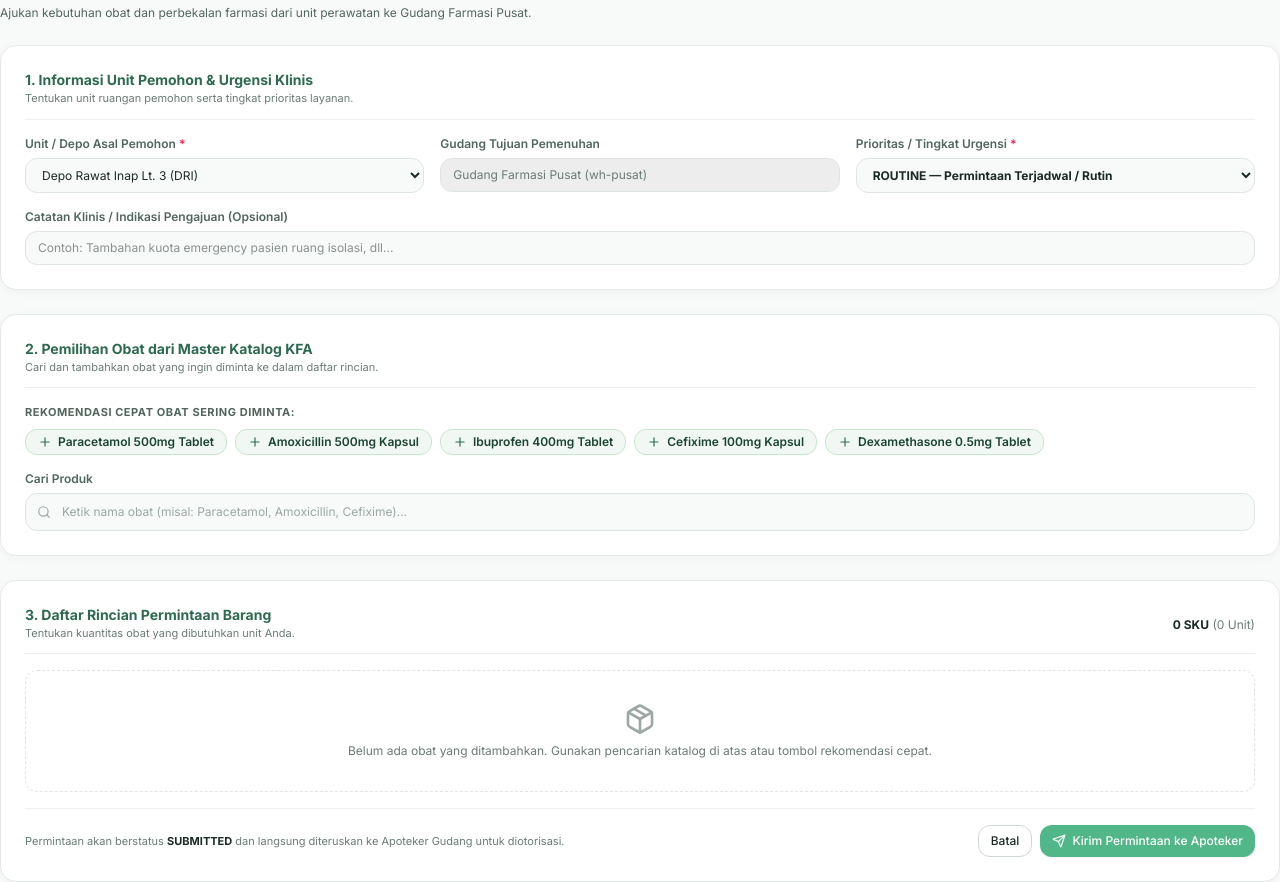
Test case: RequisitionCreate › shows validation error when submitting with no line items
(page scrolled)
Click the button "Kirim Permintaan ke Apoteker" at (1148, 841), box [1040,825,1255,857]
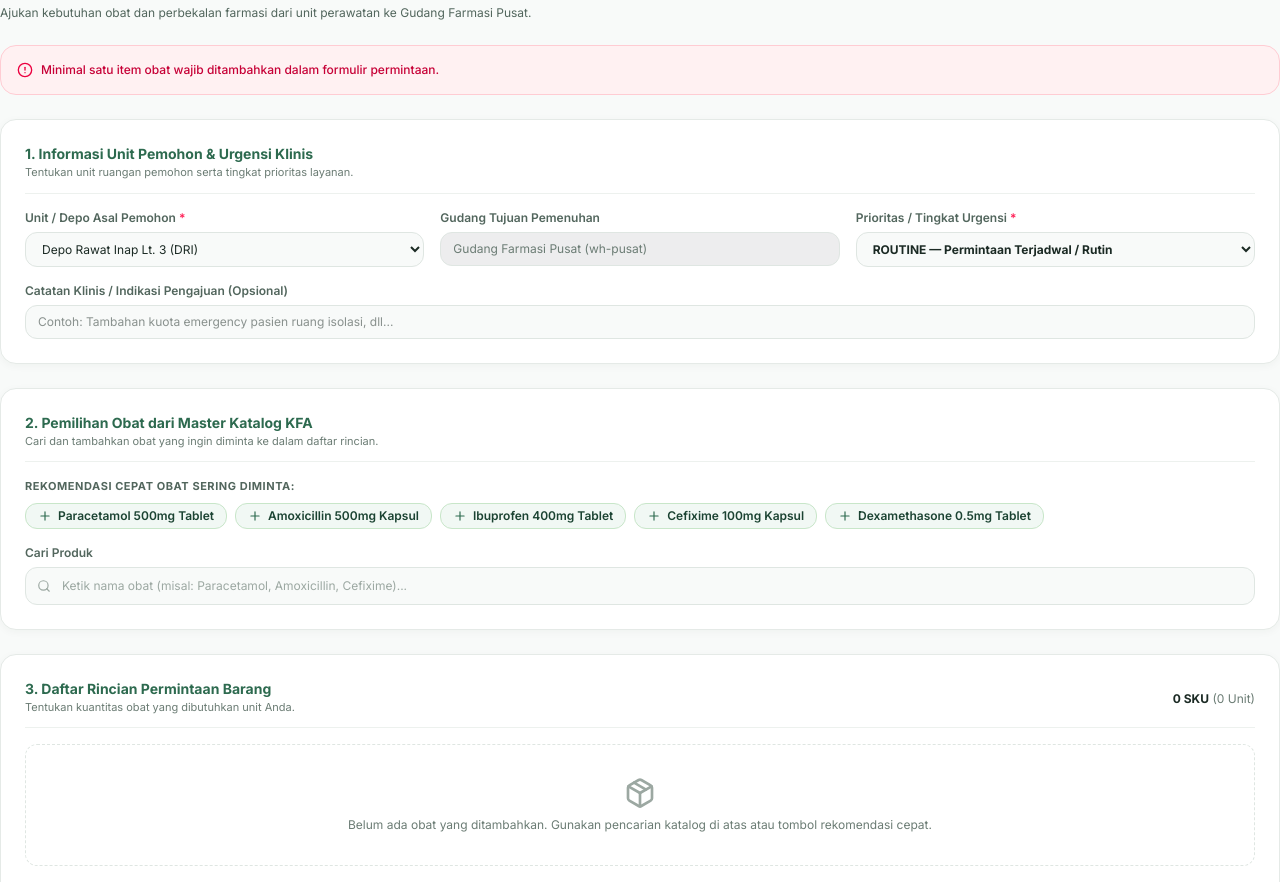
Check: the text "Minimal satu item obat wajib ditambahkan dalam formulir permintaan." is shown, box [0,45,1279,95]
